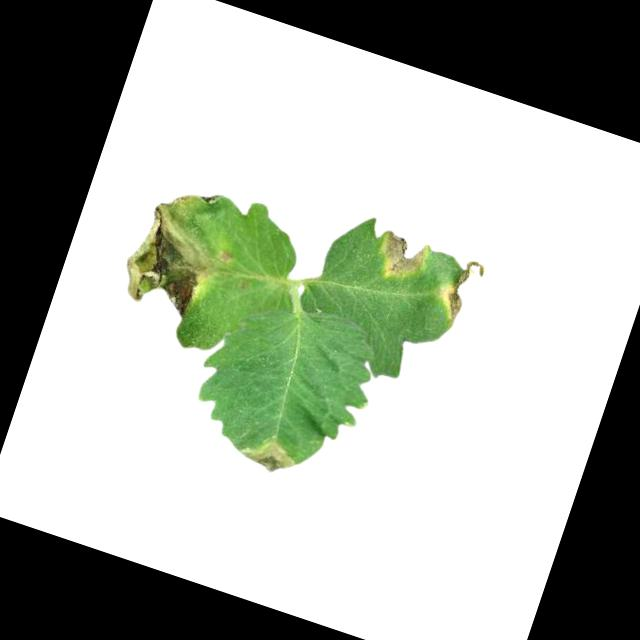Late_blight: (111, 172, 242, 327), (431, 253, 487, 329), (369, 227, 431, 290), (239, 434, 299, 480)
